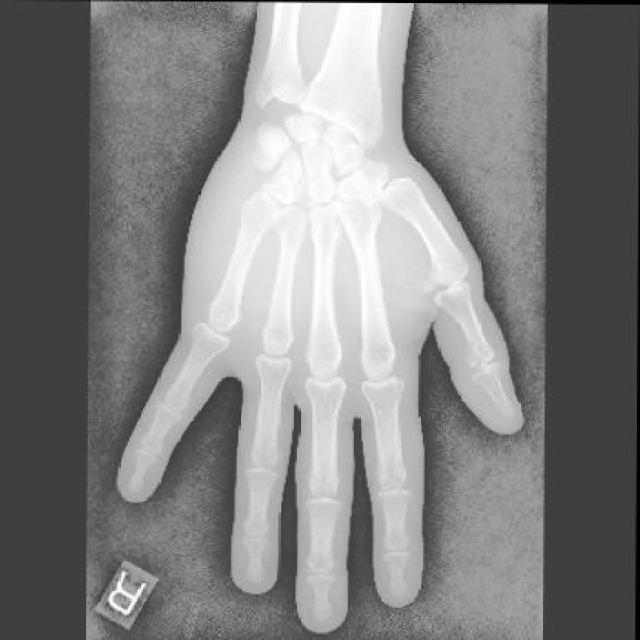Fracture: (240, 189, 285, 231)
